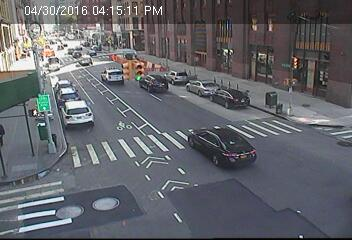neg: (286, 107, 322, 154), (33, 86, 67, 132), (95, 44, 122, 80), (173, 29, 199, 65), (302, 45, 328, 80), (136, 73, 162, 107), (119, 112, 143, 144), (215, 56, 236, 84), (94, 193, 115, 220), (216, 122, 236, 150), (255, 88, 274, 114), (87, 154, 103, 175), (253, 177, 269, 198), (90, 102, 105, 122)
